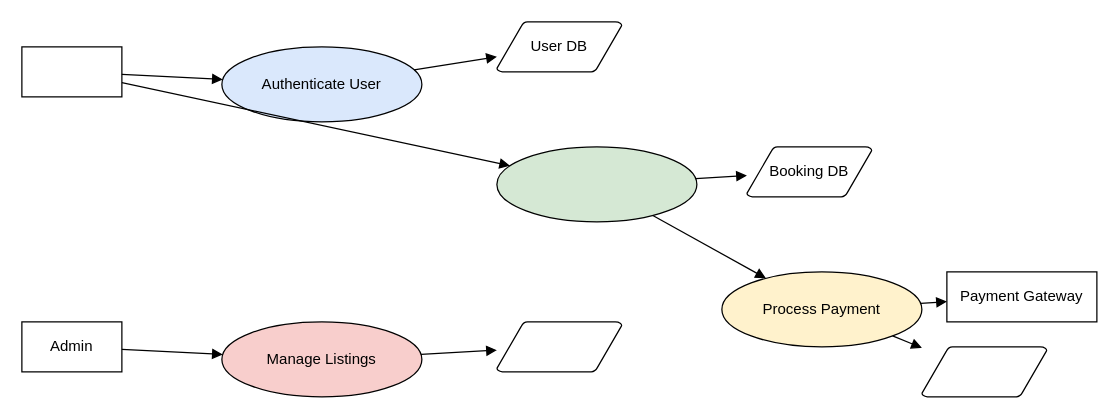
The diagram is 1119 pixels wide and 419 high, and some of its shapes have lost their labels. Each missing label, with the box of its shape:
Manage Booking: (496, 146, 697, 222)
Payment DB: (921, 346, 1047, 397)
Property DB: (496, 321, 622, 372)
User: (21, 46, 122, 97)
